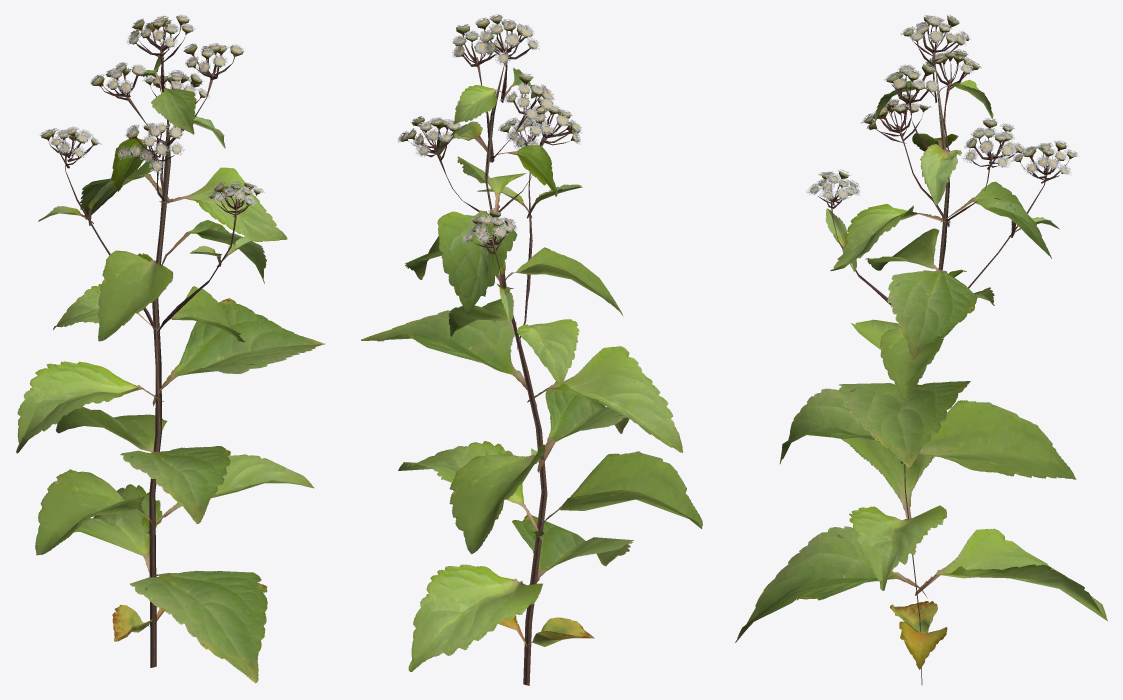
3 renders of one model, left to right at view 1: azimuth 30°, elevation 25°; view 2: azimuth 150°, elevation 25°; view 3: azimuth 270°, elevation 25°, orthographic. The views are drawn at different scales.
Parts seen in each view (by area): view 1: shrub_01__a_lod0; view 2: shrub_01__a_lod0; view 3: shrub_01__a_lod0.
Part boxes in pixels (box(x1,y1,x2,y2)): shrub_01__a_lod0: box(16, 14, 325, 683); shrub_01__a_lod0: box(361, 14, 702, 685); shrub_01__a_lod0: box(735, 14, 1107, 685).
Bounding box in the file's own units: 0.1821 × 0.3565 × 0.1804.
Materials: 1 (1 with a texture image).
